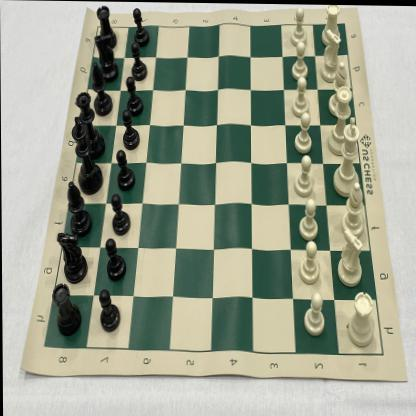black-bishop: (67, 180, 93, 236), (93, 61, 112, 115)
black-king: (70, 116, 102, 193)
black-knight: (56, 231, 88, 285), (94, 29, 117, 81)
black-pawn: (99, 285, 121, 333), (104, 238, 127, 282), (110, 193, 130, 235), (116, 148, 135, 191), (122, 109, 140, 152), (130, 41, 148, 81), (133, 6, 149, 47), (126, 75, 142, 116)
black-queen: (76, 91, 104, 157)
black-rook: (51, 283, 81, 337), (96, 5, 116, 51)
white-bishop: (341, 180, 365, 236), (328, 59, 348, 116)
white-king: (333, 116, 361, 197)
white-knight: (336, 227, 365, 287), (319, 28, 343, 82)
white-pawn: (302, 291, 326, 336), (298, 240, 320, 284), (298, 197, 318, 240), (293, 153, 313, 195), (290, 6, 308, 47), (294, 111, 312, 152), (291, 41, 309, 80), (293, 76, 309, 117)
white-queen: (327, 85, 354, 156)
white-rook: (347, 289, 375, 345), (320, 4, 340, 47)
